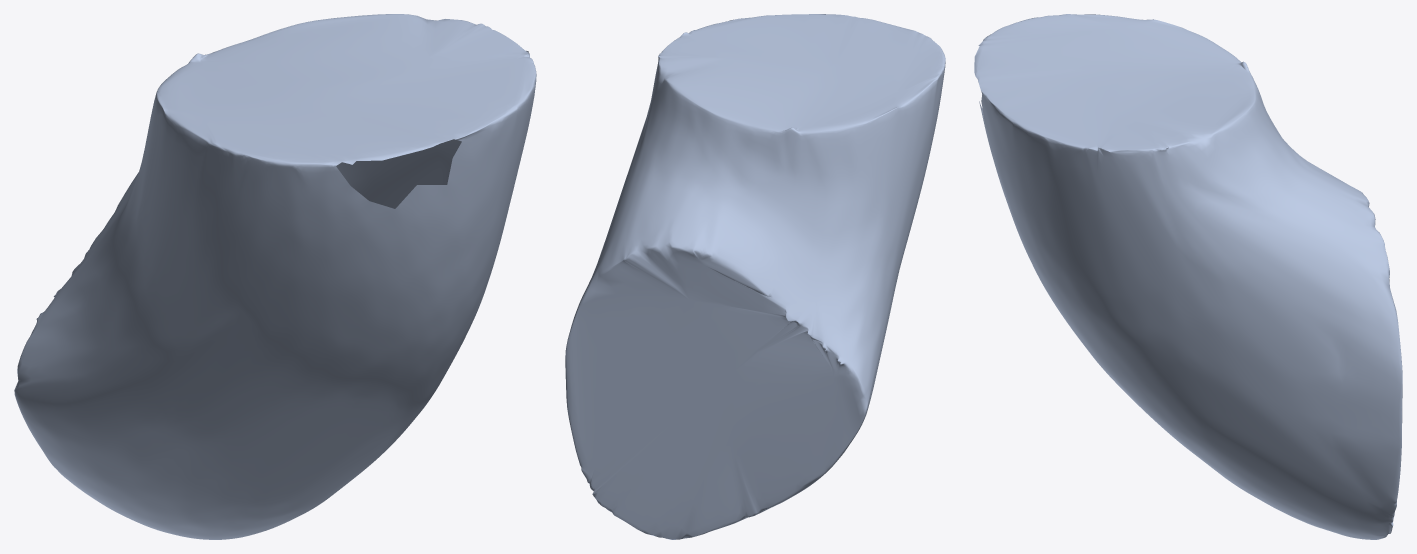
The model's file is pulmonary-trunk.glb.
3 views of the same model, side by side, from view 1: azimuth 30°, elevation 25°; view 2: azimuth 150°, elevation 25°; view 3: azimuth 270°, elevation 25° (orthographic). The views are drawn at different scales.
Visible parts, largest first — view 1: structure; view 2: structure; view 3: structure.
Part boxes in pixels (box(x1,y1,x2,y2)): structure: box(14, 14, 536, 539); structure: box(565, 14, 945, 539); structure: box(974, 14, 1402, 539).
Size of the model in its own units: 30.75 by 42.59 by 37.01.
